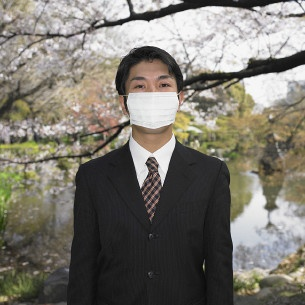Mask: (123, 73, 179, 129)
